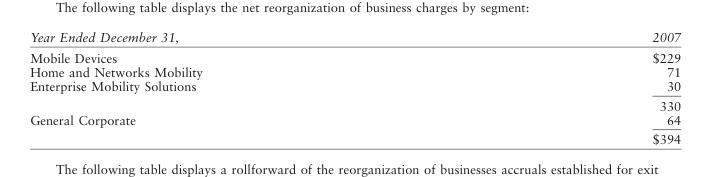table: (29, 29, 680, 146)
table column: (29, 29, 426, 146), (426, 29, 680, 146)
table row: (29, 46, 680, 64), (29, 128, 680, 146), (29, 29, 680, 46), (29, 78, 680, 95), (29, 95, 680, 112), (29, 112, 680, 128), (29, 64, 680, 78)
